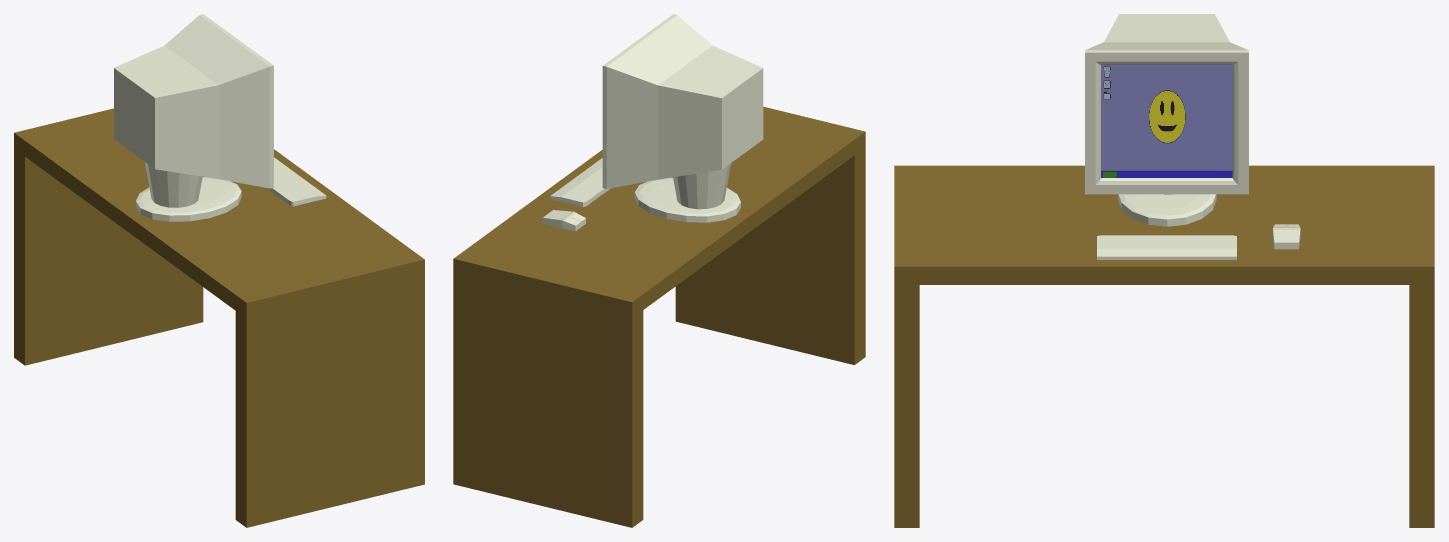
The model's file is Computer_and_Desk.glb.
3 renders of one model, left to right at view 1: azimuth 30°, elevation 25°; view 2: azimuth 150°, elevation 25°; view 3: azimuth 270°, elevation 25°, orthographic. The views are drawn at different scales.
Visible parts, largest first — view 1: Cube.003, Cube, Cylinder.001, Cylinder, Cube.002; view 2: Cube.003, Cube, Cylinder.001, Cylinder, Cube.002, Cube.001; view 3: Cube.003, Cube, Cube.002, Cylinder.001, Cube.001.
Boxes of the visible parts, x1=… form: Cube.003: x1=14, y1=108, x2=424, y2=527; Cube: x1=114, y1=14, x2=273, y2=188; Cylinder.001: x1=136, y1=177, x2=241, y2=221; Cylinder: x1=144, y1=162, x2=202, y2=207; Cube.002: x1=266, y1=157, x2=326, y2=206; Cube.003: x1=453, y1=106, x2=865, y2=527; Cube: x1=602, y1=14, x2=763, y2=188; Cylinder.001: x1=634, y1=177, x2=740, y2=222; Cylinder: x1=673, y1=163, x2=731, y2=209; Cube.002: x1=550, y1=158, x2=610, y2=206; Cube.001: x1=542, y1=210, x2=585, y2=231; Cube.003: x1=894, y1=165, x2=1434, y2=527; Cube: x1=1085, y1=14, x2=1248, y2=194; Cube.002: x1=1097, y1=235, x2=1236, y2=259; Cylinder.001: x1=1117, y1=194, x2=1216, y2=226; Cube.001: x1=1273, y1=224, x2=1300, y2=249.
Size of the model in its own units: 1.21 by 2.43 by 2.73.
Materials: 7 (7 with a texture image).
